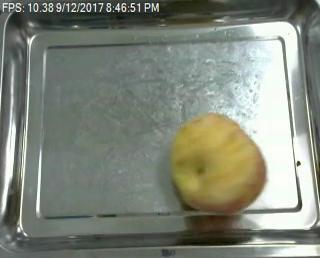Peach: (170, 112, 266, 214)
